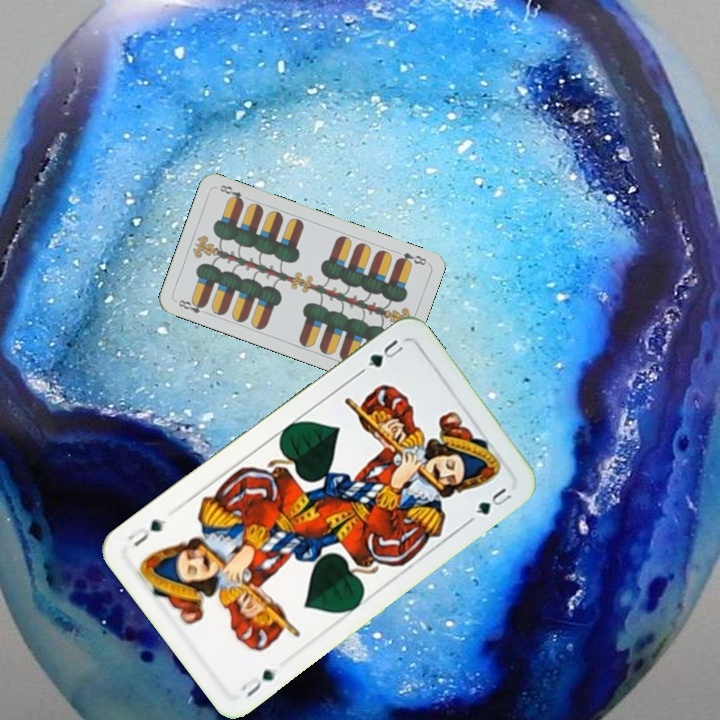E8: (174, 296, 211, 317), (393, 248, 429, 268)
GU: (356, 335, 406, 376), (236, 664, 281, 701)
